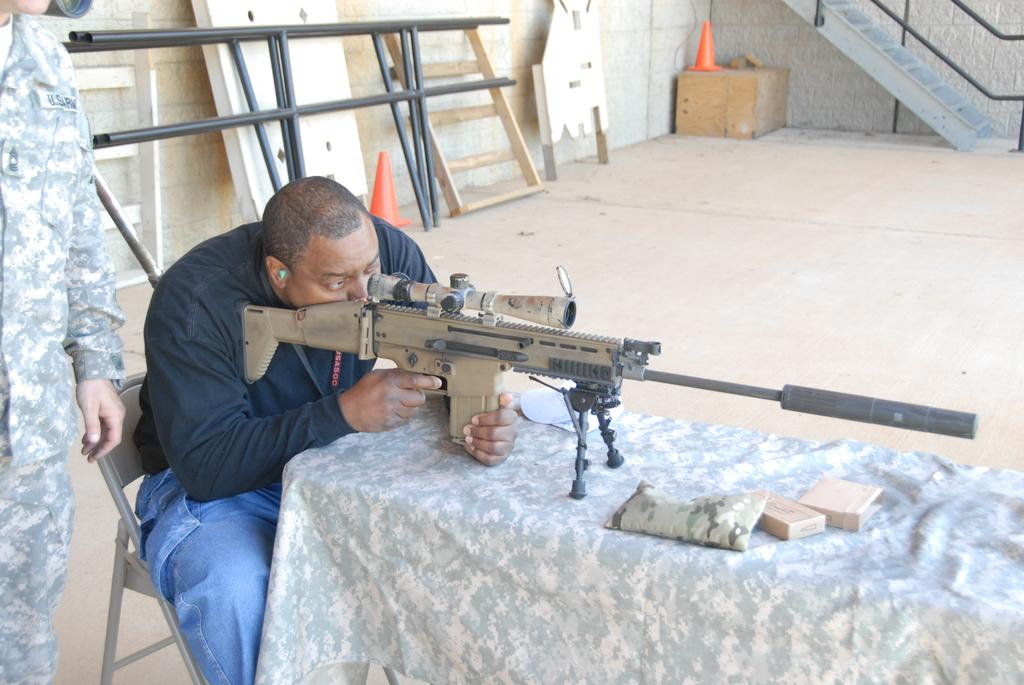Rifle: (239, 267, 971, 496)
